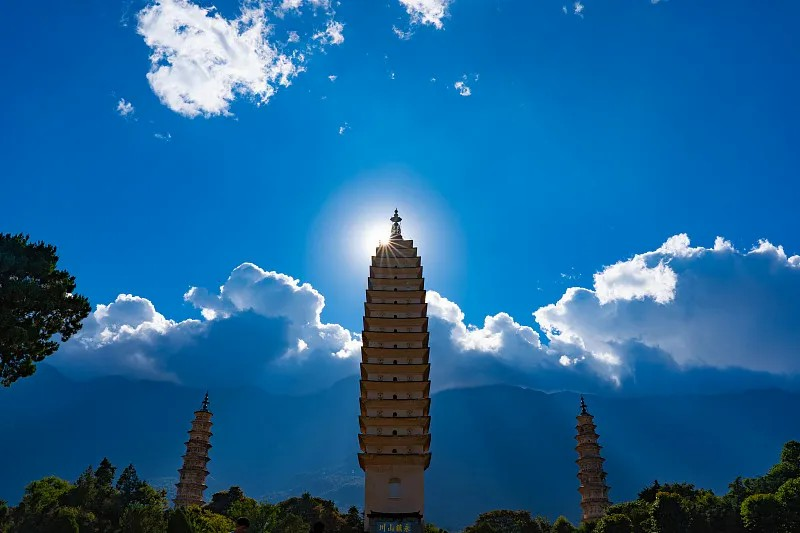ThreePagoda: (357, 207, 432, 533)
